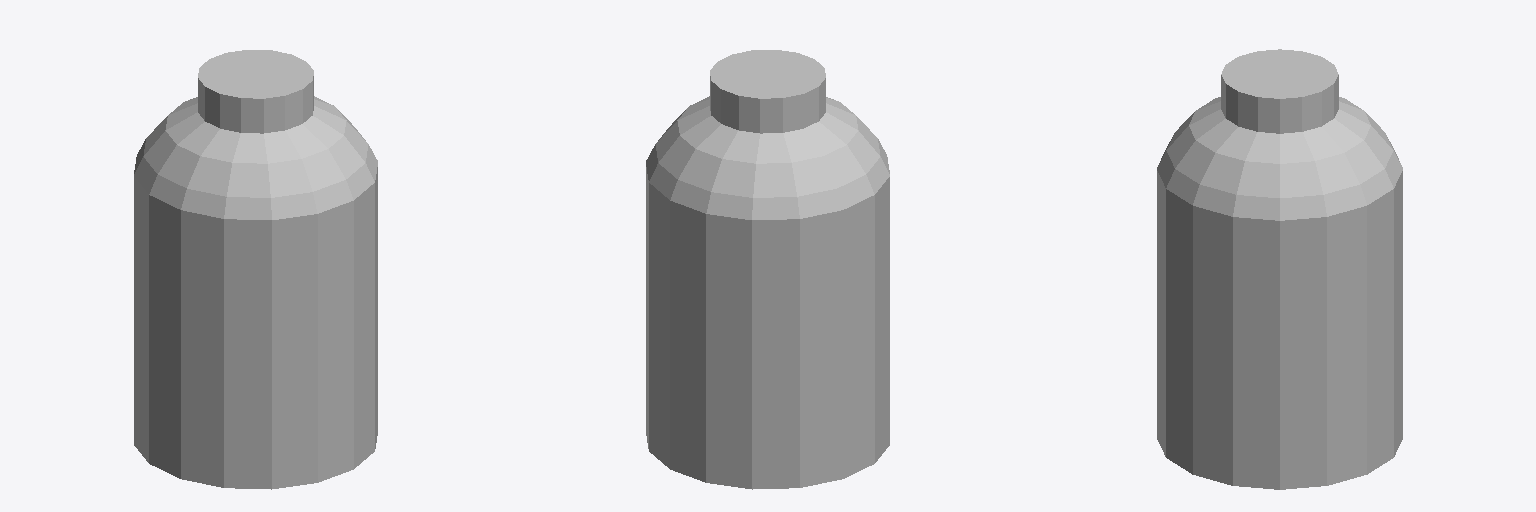
Rendered from AlcoholDisp_2_Base.obj.
3 renders of one model, left to right at view 1: azimuth 30°, elevation 25°; view 2: azimuth 150°, elevation 25°; view 3: azimuth 270°, elevation 25°, orthographic.
Visible parts, largest first — view 1: AlcoholDisp_2_Base; view 2: AlcoholDisp_2_Base; view 3: AlcoholDisp_2_Base.
Part boxes in pixels (x1,y1,x2,y2): AlcoholDisp_2_Base: (134, 50, 377, 489); AlcoholDisp_2_Base: (646, 50, 889, 489); AlcoholDisp_2_Base: (1157, 49, 1402, 489).
Size of the model in its own units: 0.1911 by 0.3108 by 0.1911.